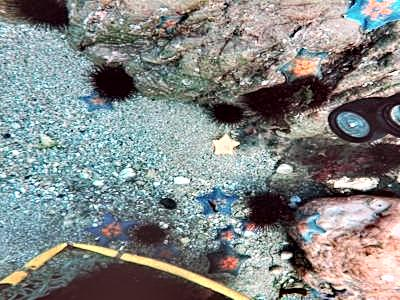urchin: (88, 60, 136, 104), (245, 87, 290, 124), (244, 192, 289, 228), (296, 74, 335, 113), (14, 2, 71, 27), (367, 142, 395, 175), (214, 100, 243, 124), (131, 223, 162, 242)
